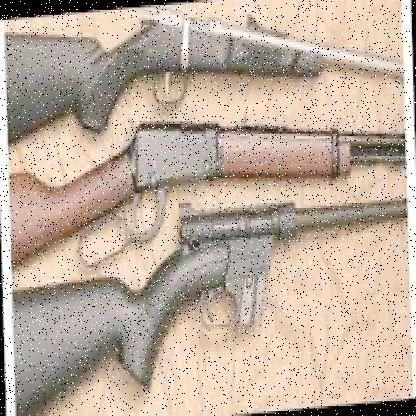rifle: (64, 188, 402, 406), (7, 104, 398, 228), (0, 0, 390, 119)
